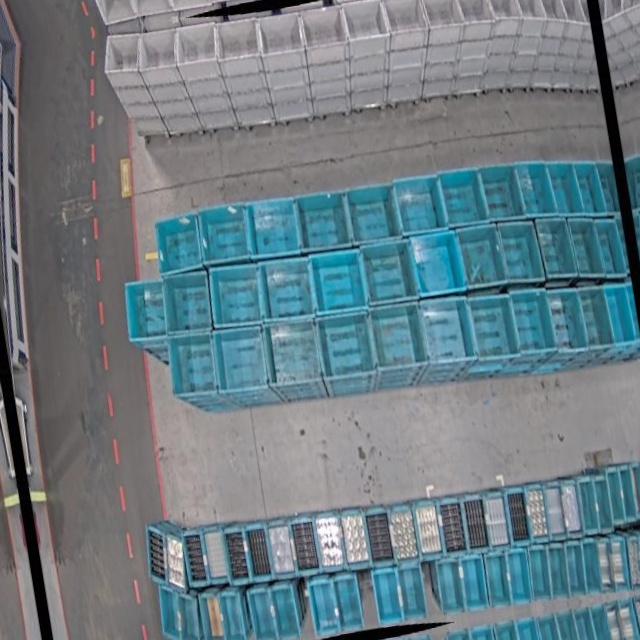Box: (315, 308, 380, 385), (210, 324, 274, 401), (203, 260, 268, 334), (253, 254, 318, 328), (306, 246, 370, 319), (261, 319, 325, 392), (194, 198, 258, 270), (292, 186, 356, 257), (161, 328, 220, 404), (357, 236, 418, 309), (416, 295, 476, 369), (370, 301, 430, 374), (243, 192, 304, 262), (342, 179, 403, 249), (409, 228, 468, 299), (160, 268, 219, 339), (149, 208, 207, 279), (389, 171, 447, 240), (116, 276, 172, 347), (466, 292, 519, 365), (507, 286, 559, 359), (435, 164, 488, 231), (495, 218, 546, 287), (455, 223, 505, 291), (545, 285, 590, 355), (478, 161, 525, 224), (534, 216, 578, 281), (211, 13, 265, 64), (516, 157, 559, 220), (254, 8, 307, 59), (297, 1, 350, 52), (133, 26, 183, 77), (171, 20, 223, 69), (99, 30, 148, 82), (578, 285, 615, 351), (544, 157, 584, 217), (567, 216, 604, 279), (601, 283, 637, 347), (141, 522, 173, 591), (341, 0, 391, 44), (339, 506, 373, 570), (591, 217, 626, 278), (571, 157, 607, 216), (385, 503, 418, 566), (364, 505, 397, 568), (412, 498, 445, 561), (160, 530, 191, 597), (313, 512, 346, 574), (436, 496, 469, 558), (266, 518, 299, 579), (308, 579, 342, 638), (242, 520, 274, 582), (481, 488, 512, 550), (290, 515, 322, 575), (331, 575, 364, 633), (222, 527, 253, 588), (504, 485, 534, 547), (270, 583, 302, 640), (200, 526, 230, 586), (154, 582, 185, 640), (381, 0, 429, 37), (525, 544, 555, 603), (458, 495, 487, 556), (374, 572, 405, 629), (394, 564, 425, 621), (458, 556, 489, 612), (523, 482, 551, 544), (577, 539, 606, 598), (246, 587, 278, 640), (541, 480, 569, 540), (483, 553, 513, 609), (503, 550, 532, 606), (433, 560, 462, 616), (419, 0, 465, 35), (172, 590, 204, 640), (216, 590, 247, 640), (595, 159, 621, 218), (555, 478, 581, 537), (546, 544, 573, 600), (577, 474, 602, 534), (182, 531, 208, 588), (605, 536, 631, 593), (563, 541, 589, 598), (594, 537, 619, 596), (616, 462, 640, 523), (590, 472, 614, 533), (199, 590, 228, 640), (604, 465, 628, 525), (454, 0, 496, 34), (483, 0, 521, 35), (571, 476, 592, 535), (623, 534, 640, 591), (555, 0, 587, 27), (510, 0, 547, 23), (534, 0, 568, 25), (626, 461, 640, 521), (635, 532, 640, 590), (640, 461, 640, 522)
